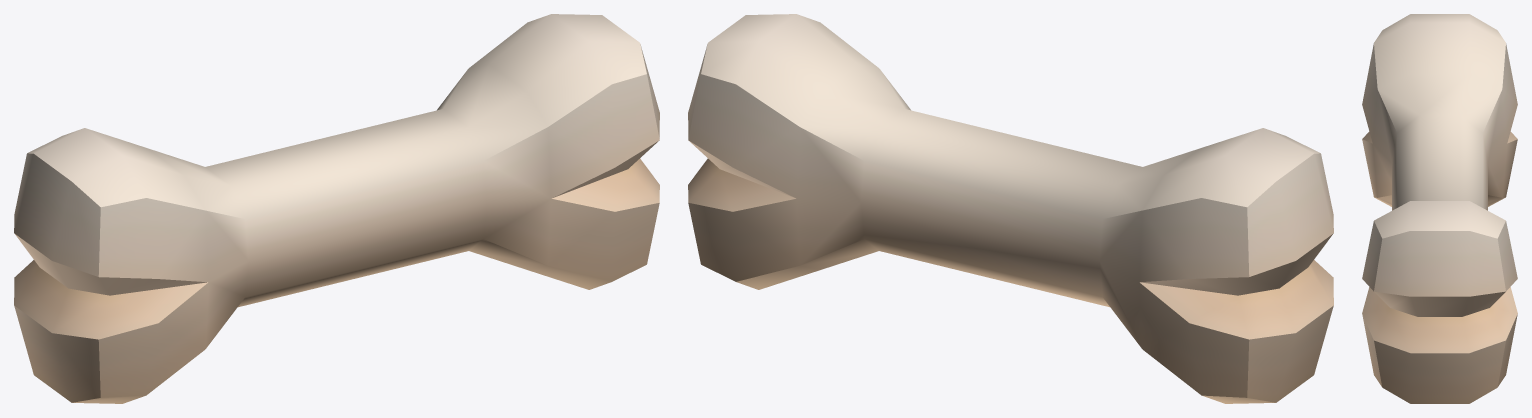
The model's file is kay-ossos.gltf.
3 renders of one model, left to right at view 1: azimuth 30°, elevation 25°; view 2: azimuth 150°, elevation 25°; view 3: azimuth 270°, elevation 25°, orthographic. The views are drawn at different scales.
Visible parts, largest first — view 1: bone_A; view 2: bone_A; view 3: bone_A.
Part boxes in pixels (<box>): bone_A: <box>14,14,659,403</box>; bone_A: <box>688,14,1333,403</box>; bone_A: <box>1362,14,1517,403</box>.
Bounding box in the file's own units: 0.3535 × 0.1381 × 0.1003.
1 material, 1 textured.
